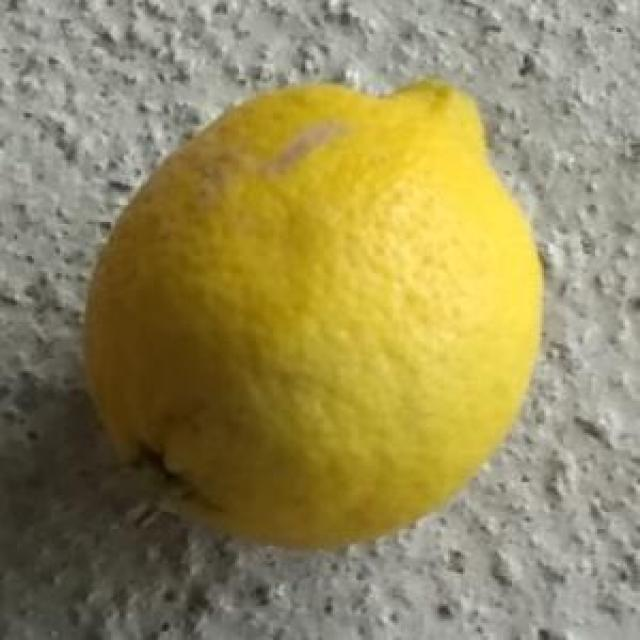lemon: (79, 75, 550, 551)
